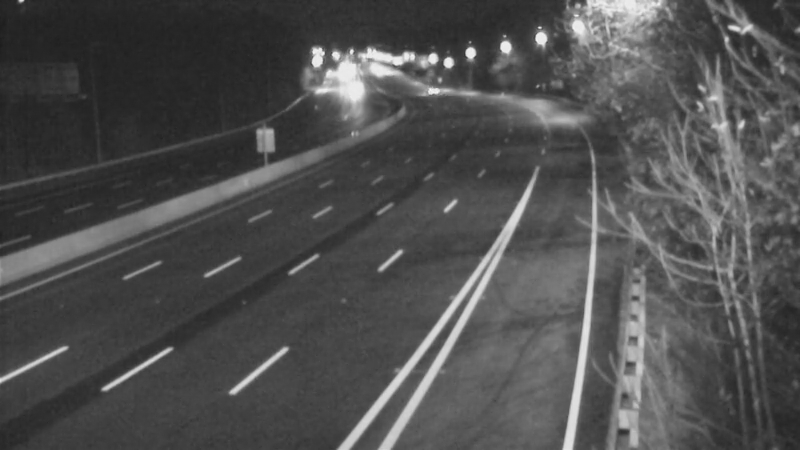vehicle: (406, 63, 456, 113), (328, 66, 378, 116)
